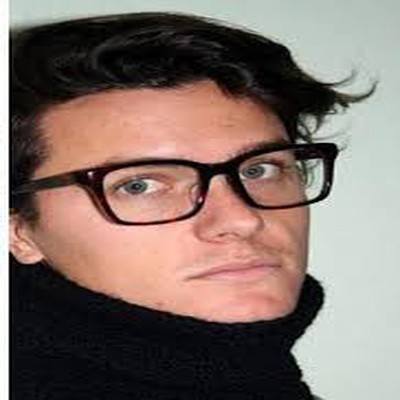eywear: (83, 118, 352, 246)
